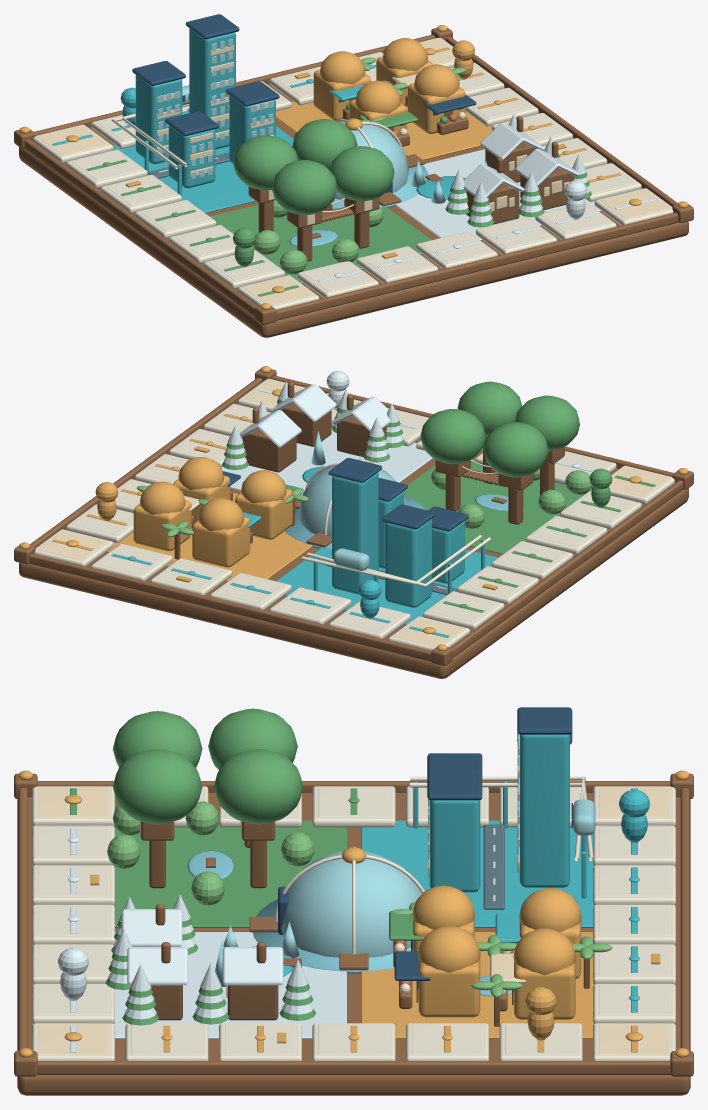
Rendered from ak-animal-metropolis.glb.
3 views of the same model, one above another, from view 1: azimuth 30°, elevation 25°; view 2: azimuth 150°, elevation 25°; view 3: azimuth 270°, elevation 25° (orthographic). The views are drawn at different scales.
Parts seen in each view (by area): view 1: Board_Base, District_4, WoodenRim.001, District_3, WoodenRim.003, CityTower_1, District_2, District_1, TreeCrown, TreeCrown.001, TreeCrown.002, CityTower_0 (+65 smaller); view 2: Board_Base, District_4, WoodenRim, CityTower_1, CityTower_0, District_3, WoodenRim.003, District_1, District_2, TreeCrown.002, TreeCrown.003, TreeCrown (+65 smaller); view 3: Board_Base, District_4, CentralTransitDome, WoodenRim.002, CityTower_1, District_1, District_3, District_2, TreeCrown.001, TreeCrown.003, CityTower_3, TreeCrown.002 (+84 smaller).
Part boxes in pixels (<box>): Board_Base: <box>19,83,688,337</box>; District_4: <box>210,204,431,283</box>; WoodenRim.001: <box>276,212,678,320</box>; District_3: <box>395,149,601,240</box>; WoodenRim.003: <box>24,139,257,316</box>; CityTower_1: <box>189,28,235,149</box>; District_2: <box>276,101,492,159</box>; District_1: <box>112,126,293,213</box>; TreeCrown: <box>272,160,337,215</box>; TreeCrown.001: <box>330,146,394,201</box>; TreeCrown.002: <box>233,135,298,190</box>; CityTower_0: <box>135,75,182,163</box>; Board_Base: <box>19,403,688,678</box>; District_4: <box>404,457,592,554</box>; WoodenRim: <box>29,553,431,661</box>; CityTower_1: <box>332,472,378,594</box>; CityTower_0: <box>385,518,432,607</box>; District_3: <box>221,428,432,494</box>; WoodenRim.003: <box>450,480,683,657</box>; District_1: <box>276,548,497,625</box>; District_2: <box>106,493,312,581</box>; TreeCrown.002: <box>483,422,548,477</box>; TreeCrown.003: <box>420,409,485,464</box>; TreeCrown: <box>514,395,579,450</box>; Board_Base: <box>17,793,690,1095</box>; District_4: <box>114,820,346,927</box>; CentralTransitDome: <box>282,851,421,957</box>; WoodenRim.002: <box>37,1061,670,1074</box>; CityTower_1: <box>519,734,569,887</box>; District_1: <box>361,820,593,927</box>; District_3: <box>114,932,346,1038</box>; District_2: <box>361,932,593,1038</box>; TreeCrown.001: <box>112,749,202,824</box>; TreeCrown.003: <box>213,749,303,824</box>; CityTower_3: <box>429,800,480,892</box>; TreeCrown.002: <box>208,708,297,769</box>.
Size of the model in its own units: 12.12 by 4.31 by 12.12.
